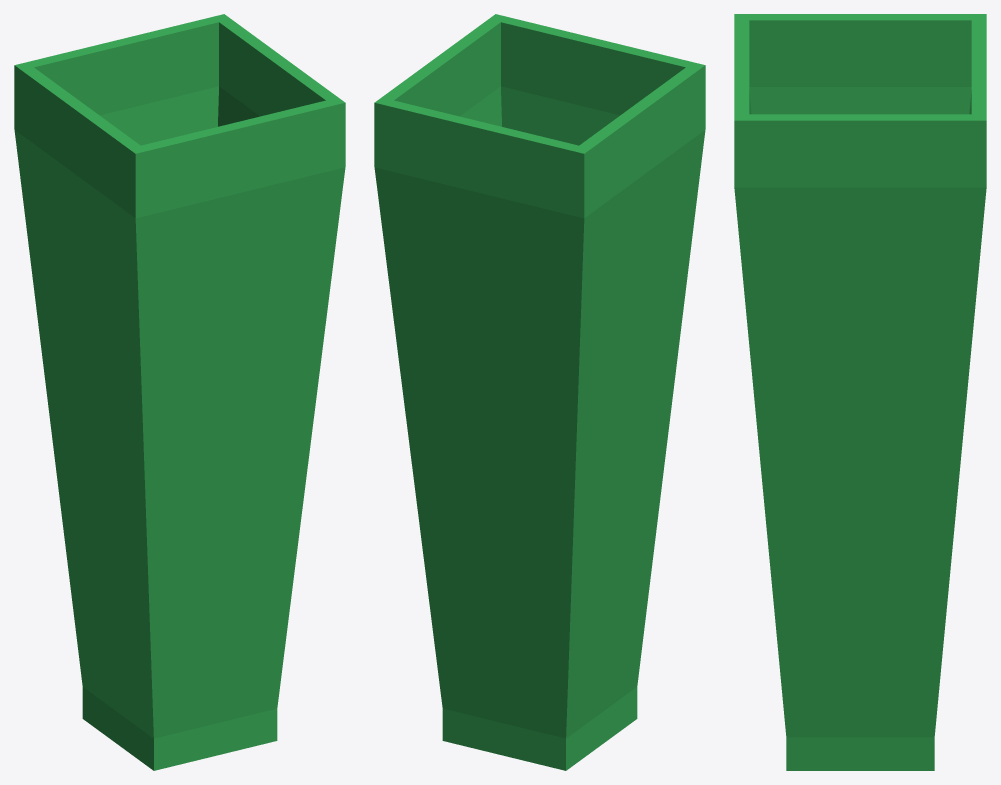
The model's file is GreenBin.dae.
3 renders of one model, left to right at view 1: azimuth 30°, elevation 25°; view 2: azimuth 150°, elevation 25°; view 3: azimuth 270°, elevation 25°, orthographic. The views are drawn at different scales.
Visible parts, largest first — view 1: GreenBin; view 2: GreenBin; view 3: GreenBin.
Boxes of the visible parts, box(x1,y1,x2,y2) form: GreenBin: box(14, 14, 345, 770); GreenBin: box(374, 14, 705, 770); GreenBin: box(734, 14, 986, 770).
Bounding box in the file's own units: 0.17 × 0.17 × 0.5.
